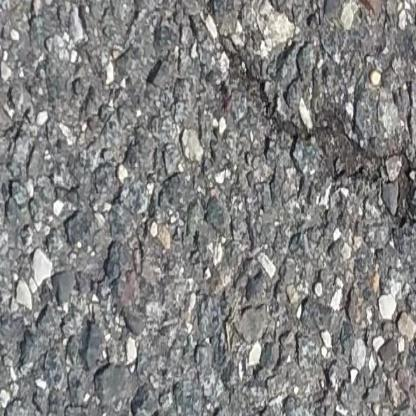Cracks: (214, 29, 416, 245)
